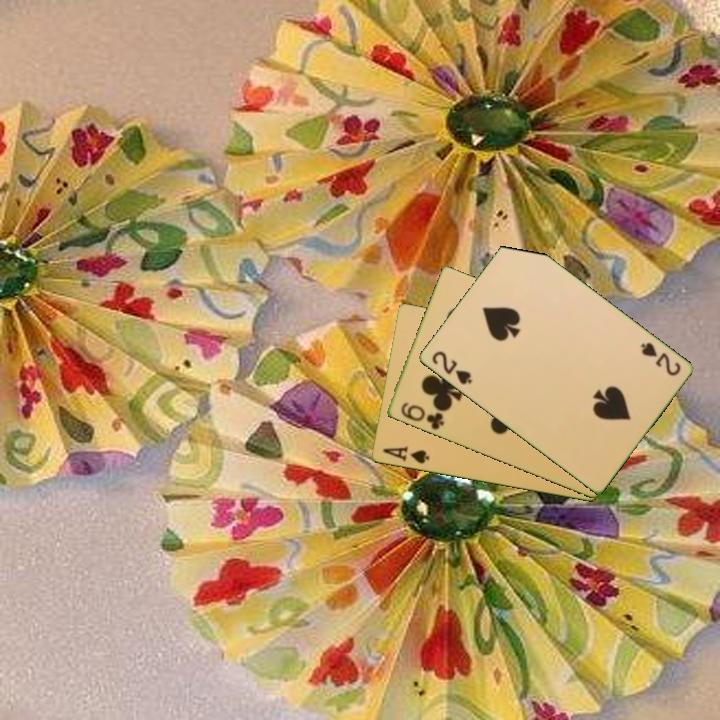2s: (428, 347, 475, 388), (637, 339, 683, 379)
6c: (397, 399, 447, 433)
As: (379, 443, 432, 467)
